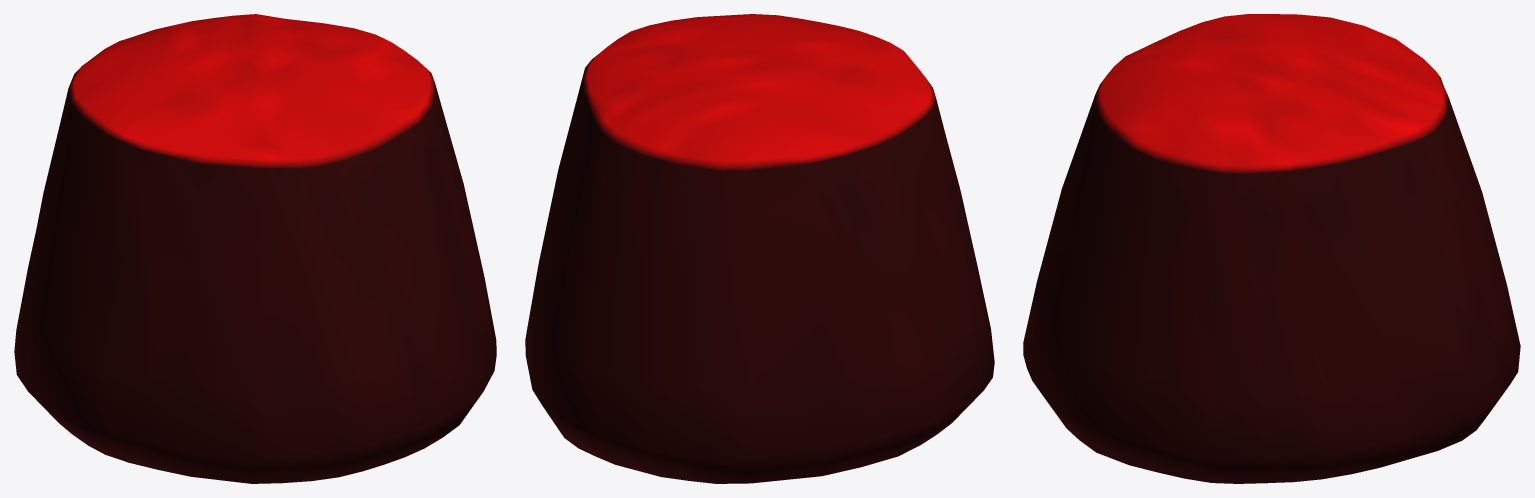
File: geology-landforms-icehilllarge_v3.fbx
3 views of the same model, side by side, from view 1: azimuth 30°, elevation 25°; view 2: azimuth 150°, elevation 25°; view 3: azimuth 270°, elevation 25° (orthographic).
Parts seen in each view (by area): view 1: IceHillLarge_v3; view 2: IceHillLarge_v3; view 3: IceHillLarge_v3.
Part boxes in pixels (bbox=[...]): IceHillLarge_v3: bbox=[14, 14, 496, 483]; IceHillLarge_v3: bbox=[525, 14, 994, 483]; IceHillLarge_v3: bbox=[1023, 14, 1520, 483].
Bounding box in the file's own units: 35.62 × 26.33 × 36.81.
